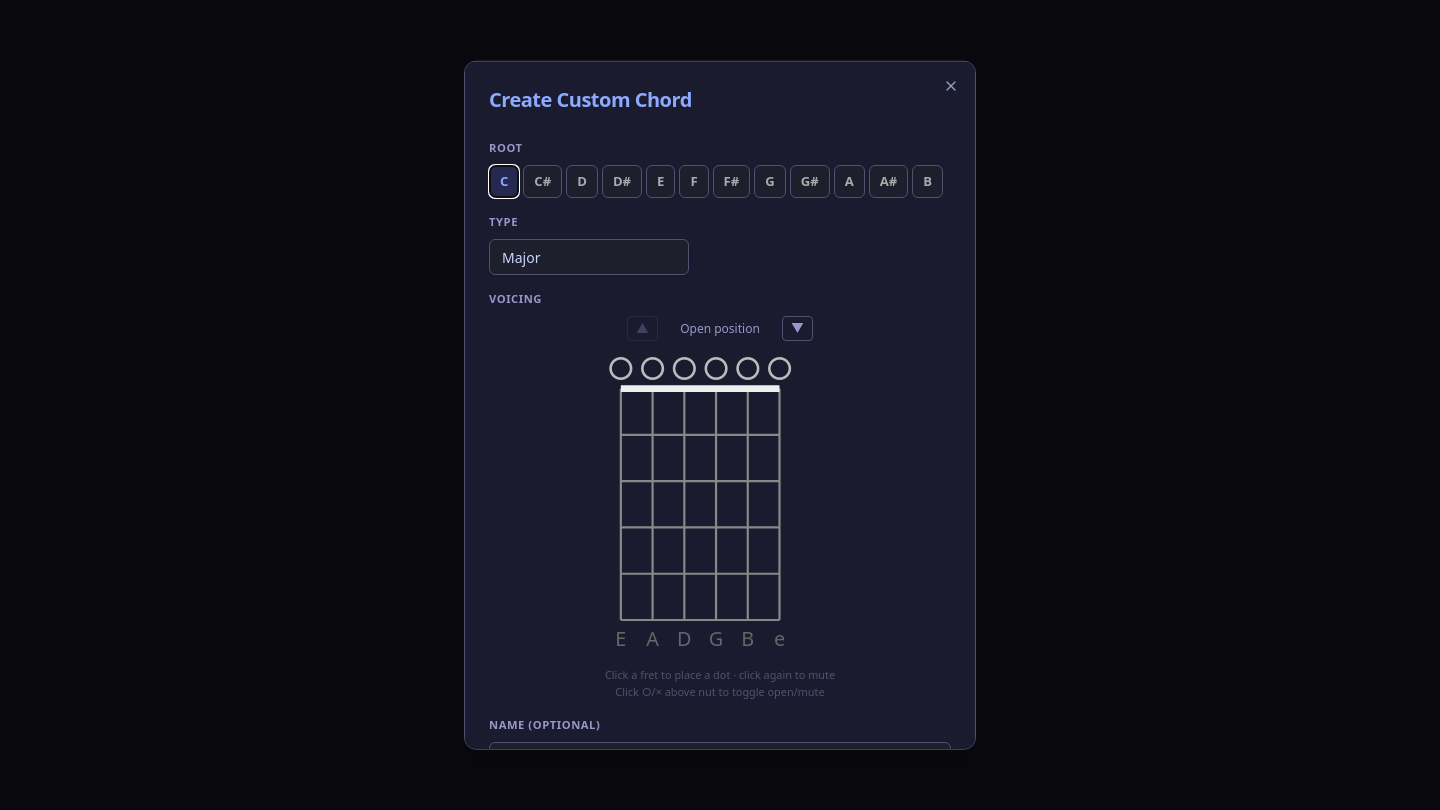
Test: InteractiveFretboardEditor inside ChordCreatorModal › updates fret range label after scrolling down
This screenshot has width=1440, height=810.
Click the button named "Scroll down one fret" at (797, 328), box [782,316,813,341]
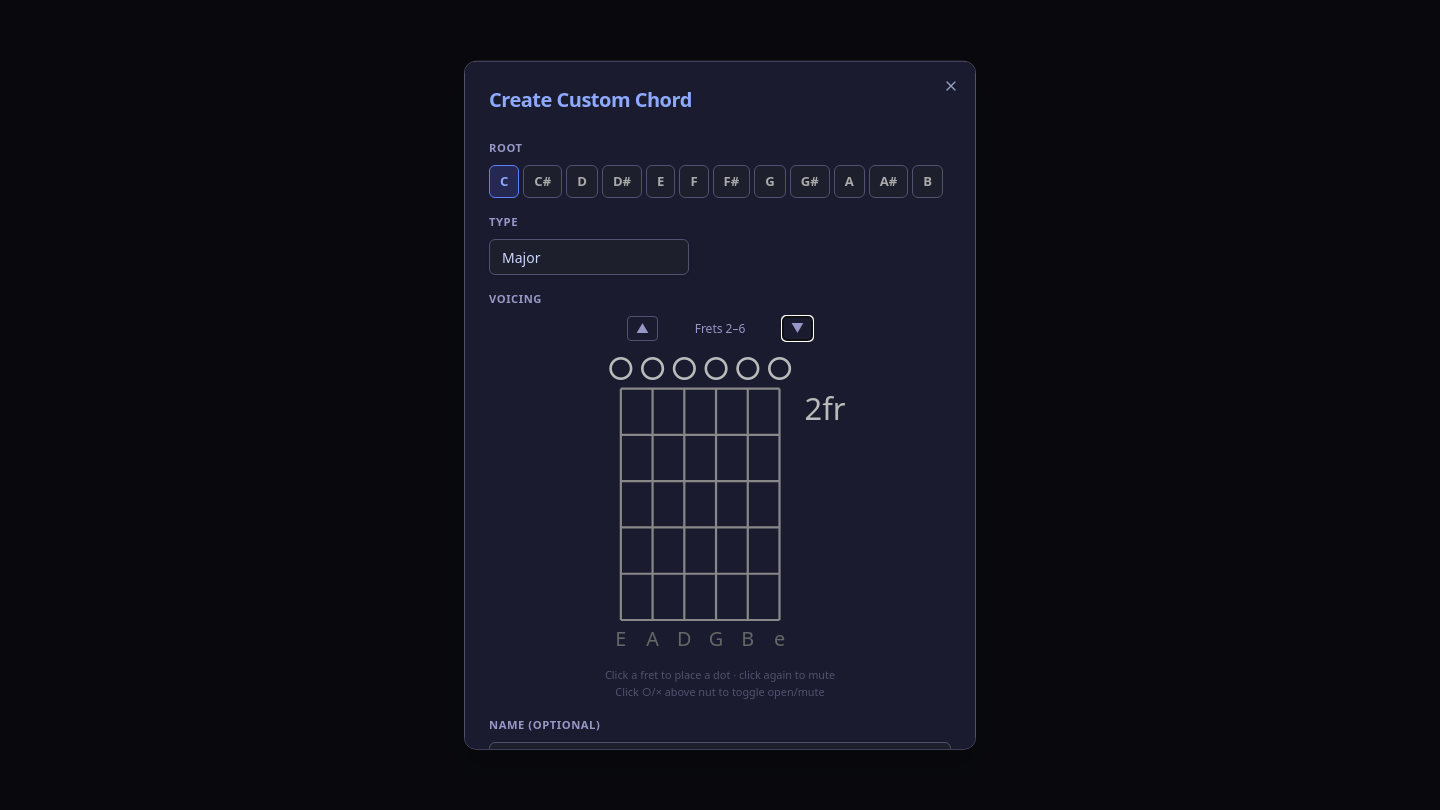
Expected: the text "Frets 2–6" is shown, [695,319,745,336]
